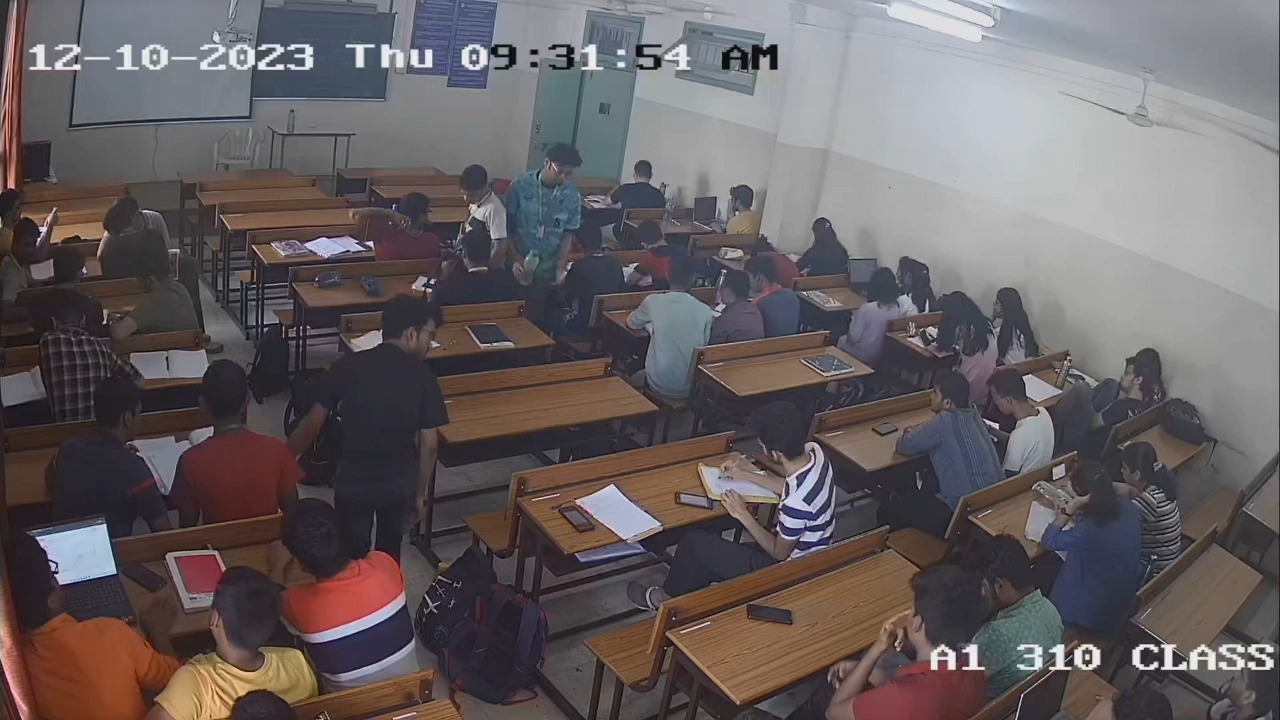cell-phones: (121, 559, 168, 593), (746, 602, 794, 626), (559, 504, 597, 532), (675, 490, 714, 510), (872, 420, 899, 437), (1051, 461, 1068, 481), (918, 327, 932, 348), (1064, 372, 1086, 382)
person: (141, 564, 317, 716), (846, 563, 987, 720), (710, 400, 837, 552), (895, 369, 992, 490), (1120, 440, 1181, 557), (935, 293, 999, 369), (1104, 358, 1156, 431)
